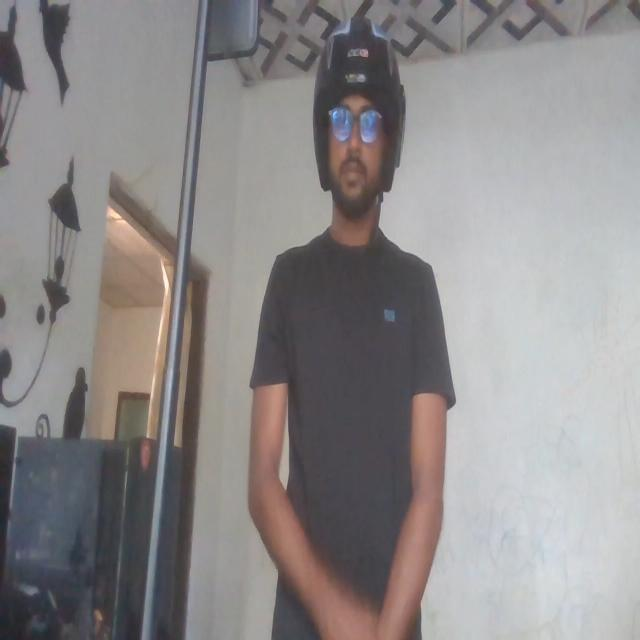Helmet_Wearer: (305, 7, 405, 267)
Person: (251, 14, 452, 640)
